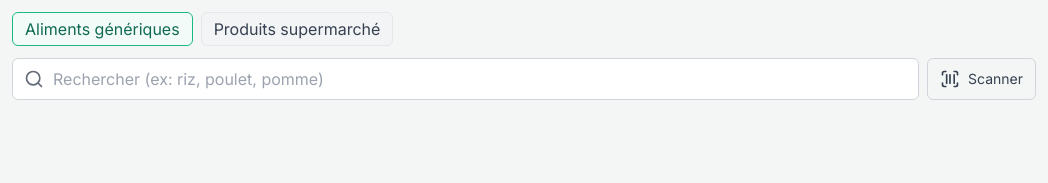
Test case: FoodSearch › affiche "Aucun résultat" quand la recherche ne trouve rien
Type "zzz" into the dropdown named "Recherche d'aliment" at (466, 79), box [12, 58, 919, 100]
Wait 400 ms
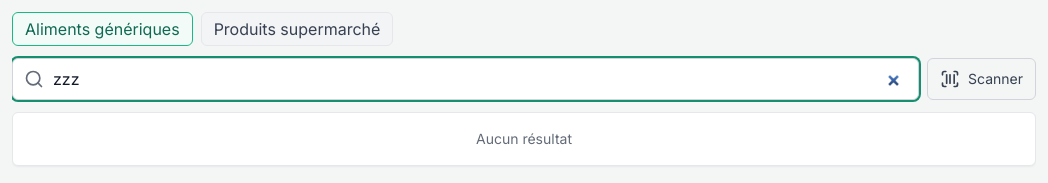
Now the text "Aucun résultat" is shown, box [476, 130, 572, 147]
